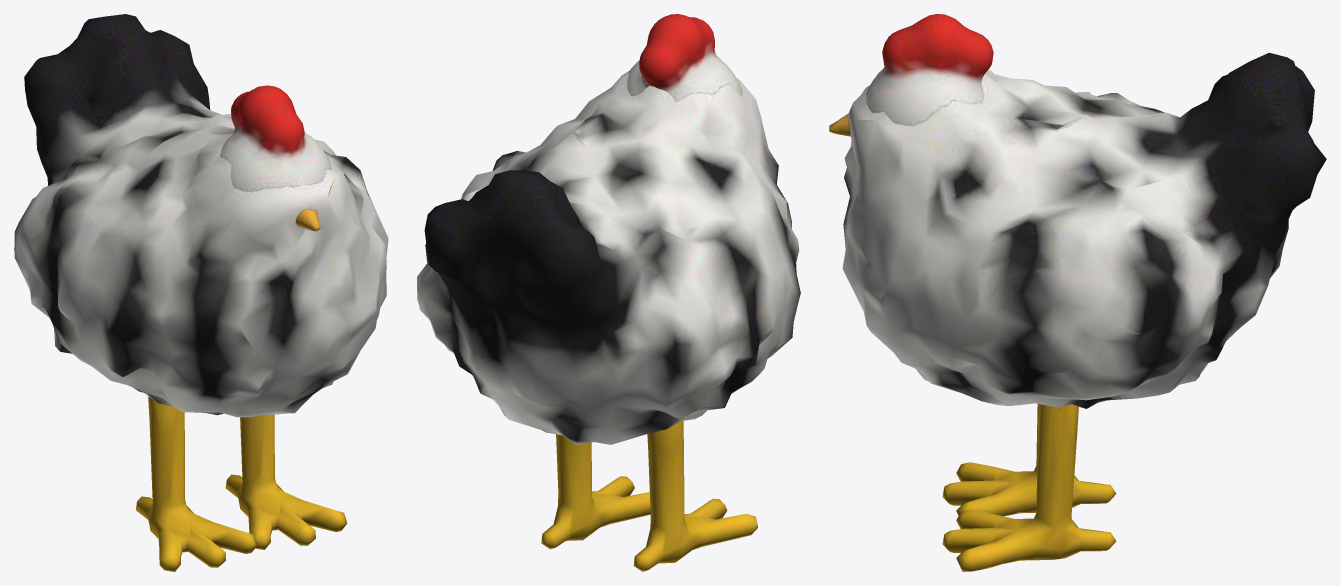
File: animal_wyandotte.glb
3 views of the same model, side by side, from view 1: azimuth 30°, elevation 25°; view 2: azimuth 150°, elevation 25°; view 3: azimuth 270°, elevation 25° (orthographic). The views are drawn at different scales.
Parts seen in each view (by area): view 1: animal_wyandotte, head, leg0, leg1; view 2: animal_wyandotte, leg0, head, leg1; view 3: animal_wyandotte, leg1, head, leg0.
Part boxes in pixels (box(x1,y1,x2,y2)): animal_wyandotte: box(14, 14, 388, 417); head: box(220, 85, 330, 231); leg0: box(136, 396, 256, 571); leg1: box(225, 414, 347, 549); animal_wyandotte: box(417, 71, 800, 444); leg0: box(633, 420, 757, 571); head: box(627, 14, 741, 101); leg1: box(541, 434, 650, 549); animal_wyandotte: box(842, 52, 1326, 408); leg1: box(942, 404, 1116, 571); head: box(829, 14, 993, 136); leg0: box(942, 404, 1116, 516).
Bounding box in the file's own units: 0.2017 × 0.3066 × 0.2663.
1 material, 1 textured.
